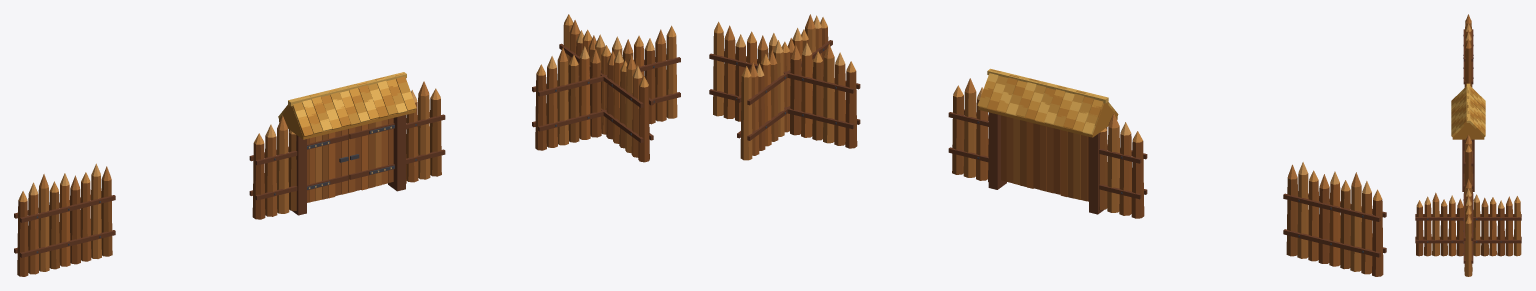
The model's file is muralhas-nivel-1.glb.
3 views of the same model, side by side, from view 1: azimuth 30°, elevation 25°; view 2: azimuth 150°, elevation 25°; view 3: azimuth 270°, elevation 25° (orthographic). The views are drawn at different scales.
Visible parts, largest first — view 1: gate_pilar_1, gate_ala_-1_estaca_3, gate_ala_1_estaca_3, tower_frente_estaca_3, gate_ala_-1_estaca_2, gate_pilar_-1, wall_estaca_3, gate_ala_-1_estaca_1, tower_frente_estaca_5, tower_lado_estaca_1, tower_frente_estaca_2, tower_frente_estaca_13 (+31 smaller); view 2: gate_pilar_1, gate_ala_1_estaca_3, gate_ala_-1_estaca_3, tower_lado_estaca_13, tower_frente_estaca_3, gate_ala_-1_estaca_2, gate_ala_-1_estaca_1, gate_pilar_-1, wall_estaca_3, tower_frente_estaca_5, wall_estaca_8, wall_estaca_5 (+40 smaller); view 3: tower_lado_viga_0_-1, tower_frente_estaca_13, tower_lado_estaca_3, tower_lado_viga_1_-1, tower_lado_estaca_8, tower_lado_estaca_2, tower_lado_estaca_5, tower_lado_estaca_12, tower_lado_estaca_10, tower_lado_estaca_9, tower_lado_estaca_13, gate_empena (+13 smaller).
Boxes of the visible parts, box(x1,y1,x2,y2) form: gate_pilar_1: box(388, 115, 405, 191); gate_ala_-1_estaca_3: box(276, 129, 289, 213); gate_ala_1_estaca_3: box(417, 94, 430, 179); tower_frente_estaca_3: box(557, 60, 568, 145); gate_ala_-1_estaca_2: box(264, 136, 277, 216); gate_pilar_-1: box(289, 129, 306, 215); wall_estaca_3: box(38, 187, 49, 271); gate_ala_-1_estaca_1: box(252, 143, 265, 219); tower_frente_estaca_5: box(579, 58, 590, 139); tower_lado_estaca_1: box(638, 85, 649, 162); tower_frente_estaca_2: box(546, 67, 557, 147); tower_frente_estaca_13: box(666, 35, 677, 118); gate_pilar_1: box(988, 112, 1006, 189); gate_ala_1_estaca_3: box(963, 91, 976, 177); gate_ala_-1_estaca_3: box(1107, 126, 1119, 212); tower_lado_estaca_13: box(740, 76, 752, 160); tower_frente_estaca_3: box(823, 57, 834, 143); gate_ala_-1_estaca_2: box(1119, 134, 1131, 215); gate_ala_-1_estaca_1: box(1131, 141, 1144, 218); gate_pilar_-1: box(1089, 127, 1107, 214); wall_estaca_3: box(1350, 185, 1361, 271); tower_frente_estaca_5: box(801, 54, 812, 137); wall_estaca_8: box(1297, 173, 1308, 258); wall_estaca_5: box(1329, 183, 1340, 266); tower_lado_viga_0_-1: box(1415, 239, 1521, 243); tower_frente_estaca_13: box(1464, 223, 1472, 276); tower_lado_estaca_3: box(1432, 201, 1439, 256); tower_lado_viga_1_-1: box(1415, 217, 1521, 220); tower_lado_estaca_8: box(1473, 201, 1480, 256); tower_lado_estaca_2: box(1424, 204, 1431, 256); tower_lado_estaca_5: box(1448, 202, 1456, 256); tower_lado_estaca_12: box(1505, 205, 1513, 256); tower_lado_estaca_10: box(1489, 203, 1496, 256); tower_lado_estaca_9: box(1481, 206, 1488, 256); tower_lado_estaca_13: box(1514, 202, 1521, 256); gate_empena: box(1452, 123, 1484, 139).
Bounding box in the file's own units: 28 × 4.57 × 6.
